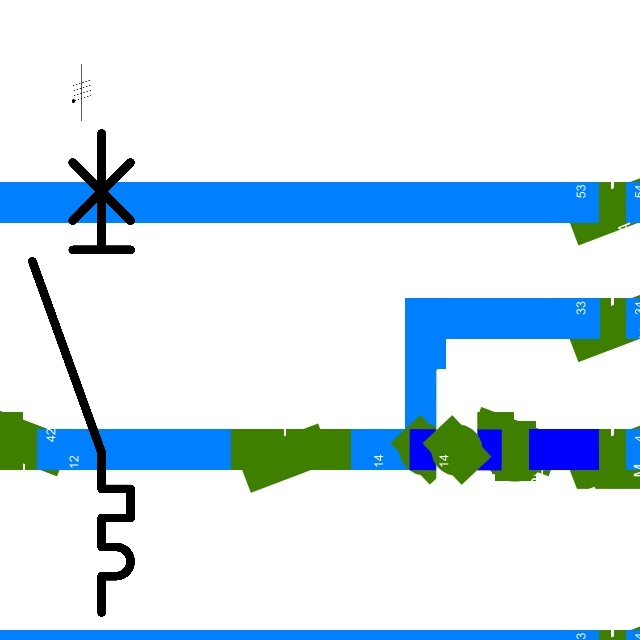interruptor_termomagnetico: (20, 121, 143, 625)
